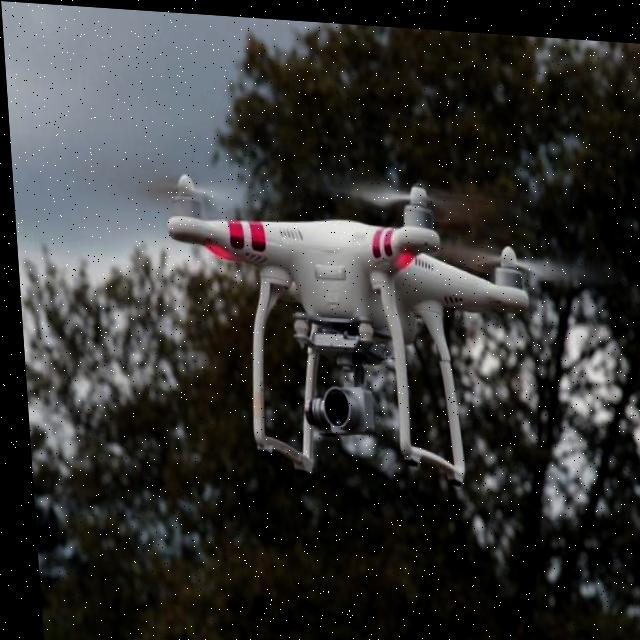drone: (159, 164, 538, 490)
